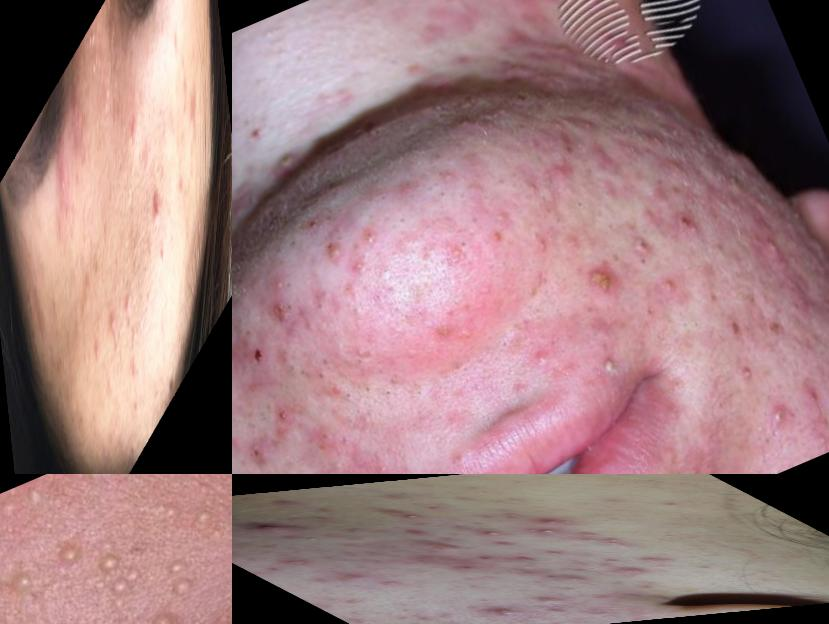blackhead: (299, 278, 351, 325), (364, 252, 413, 295), (280, 354, 316, 390), (309, 346, 345, 380), (305, 363, 339, 392), (354, 376, 378, 402), (377, 381, 402, 405), (391, 211, 416, 235), (336, 388, 358, 409)
cystic: (561, 191, 595, 222)
keloid: (599, 102, 691, 187), (489, 1, 576, 83), (693, 134, 762, 208), (550, 52, 614, 118)
milium: (92, 536, 155, 607), (160, 552, 205, 602), (1, 560, 45, 604), (51, 536, 88, 575), (187, 501, 220, 535), (80, 475, 126, 487)
papular: (418, 298, 489, 364), (429, 223, 490, 280), (301, 419, 361, 475), (437, 103, 499, 154), (534, 152, 585, 198), (259, 298, 303, 342), (614, 228, 660, 270), (261, 265, 302, 307), (513, 170, 553, 210), (237, 436, 278, 475), (144, 176, 163, 256), (390, 535, 467, 554), (506, 591, 587, 609), (426, 158, 464, 196), (483, 200, 523, 236), (524, 226, 562, 262), (267, 399, 302, 436), (318, 568, 385, 587), (621, 553, 689, 569), (530, 571, 596, 586), (183, 82, 198, 146), (54, 142, 69, 200), (602, 566, 660, 579), (440, 563, 494, 575), (278, 557, 323, 569), (504, 555, 548, 565), (568, 531, 611, 541)
purulent: (580, 325, 639, 394), (575, 255, 630, 310), (760, 396, 806, 438), (646, 267, 690, 307), (748, 224, 789, 266), (315, 235, 356, 273), (517, 340, 558, 377), (348, 222, 389, 259), (269, 146, 307, 183), (531, 516, 584, 528), (390, 512, 437, 522), (525, 527, 569, 537), (473, 530, 510, 538)
sebo-crystan-conglo: (235, 522, 294, 533), (482, 608, 530, 618)
whitehead: (331, 315, 399, 382), (731, 356, 763, 394), (85, 19, 99, 69), (100, 74, 114, 123), (127, 313, 140, 365), (585, 536, 639, 548), (107, 291, 119, 339), (291, 533, 338, 545), (537, 548, 584, 558), (123, 275, 133, 321), (586, 555, 626, 566), (95, 295, 105, 334)
